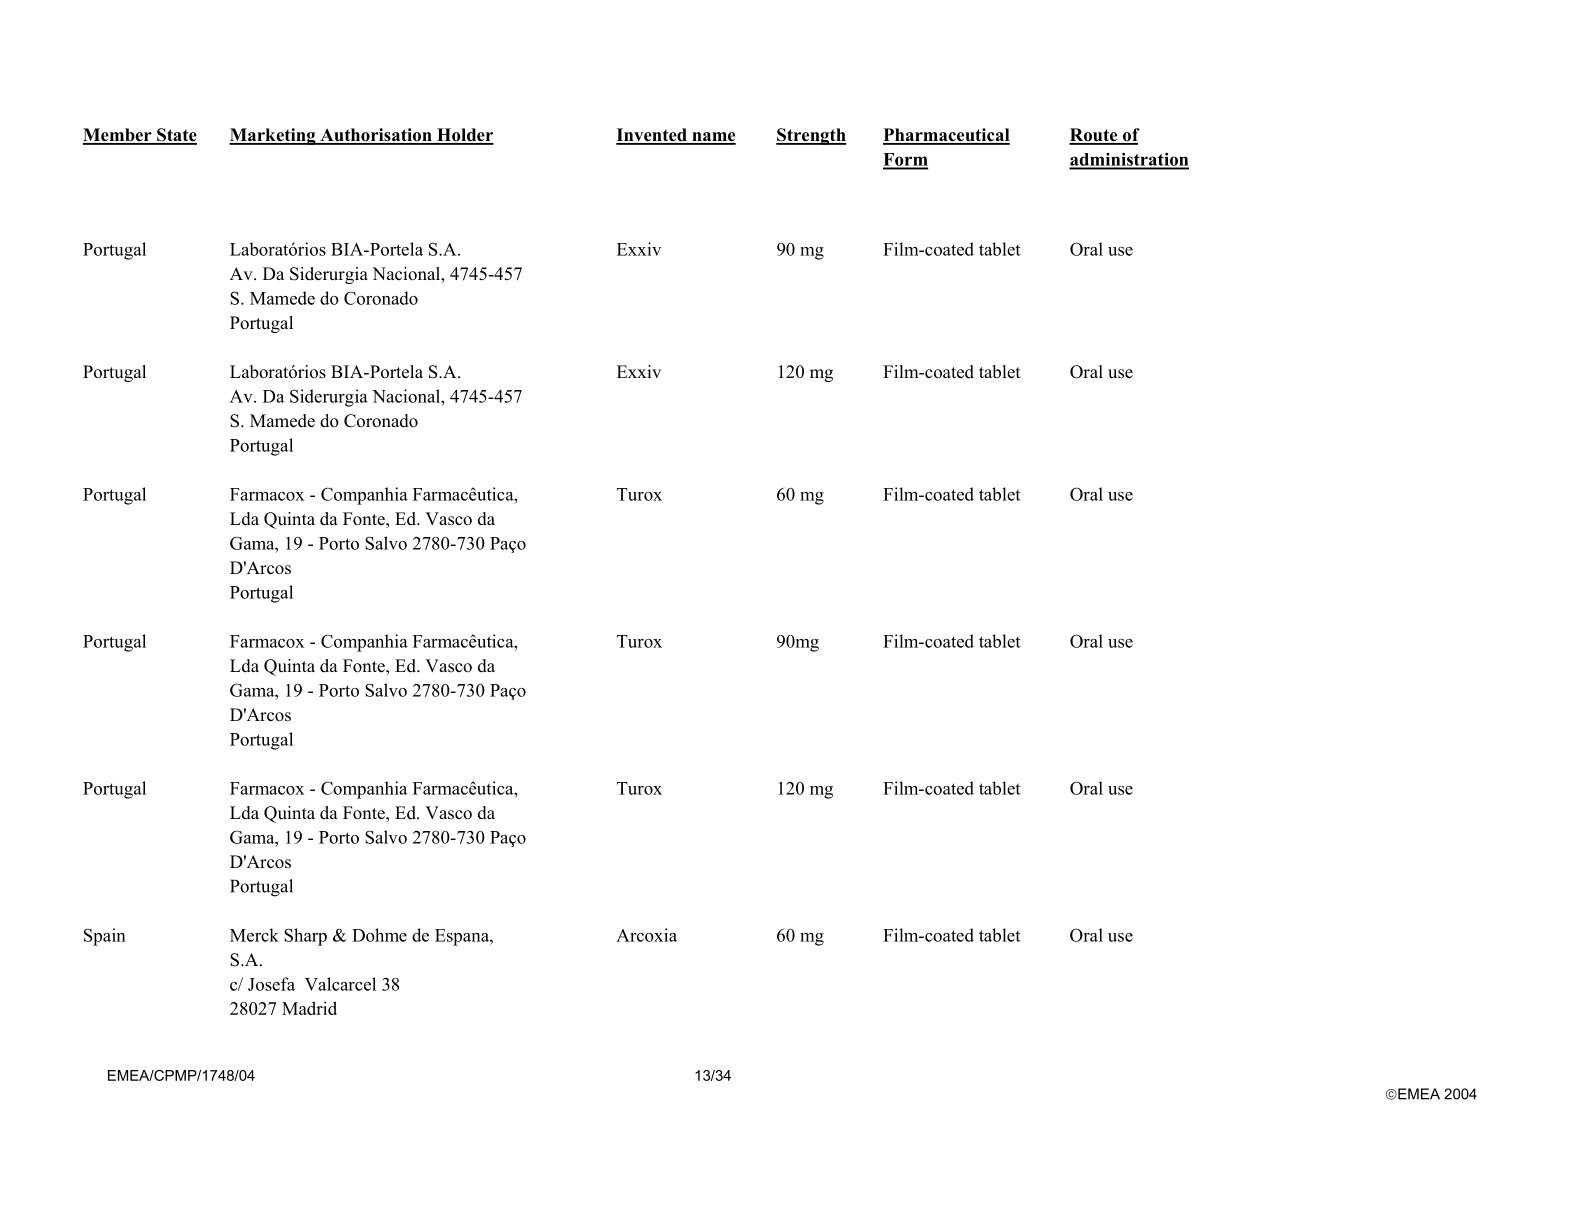nolines: (84, 120, 1193, 1018)
